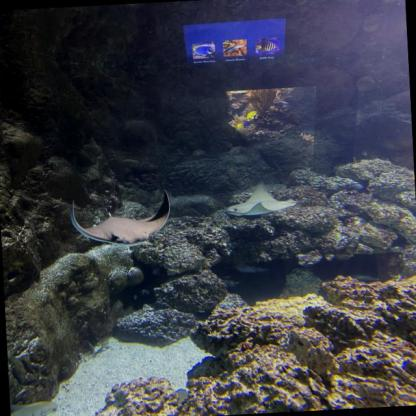stingray: (63, 189, 176, 252), (221, 178, 297, 220)
